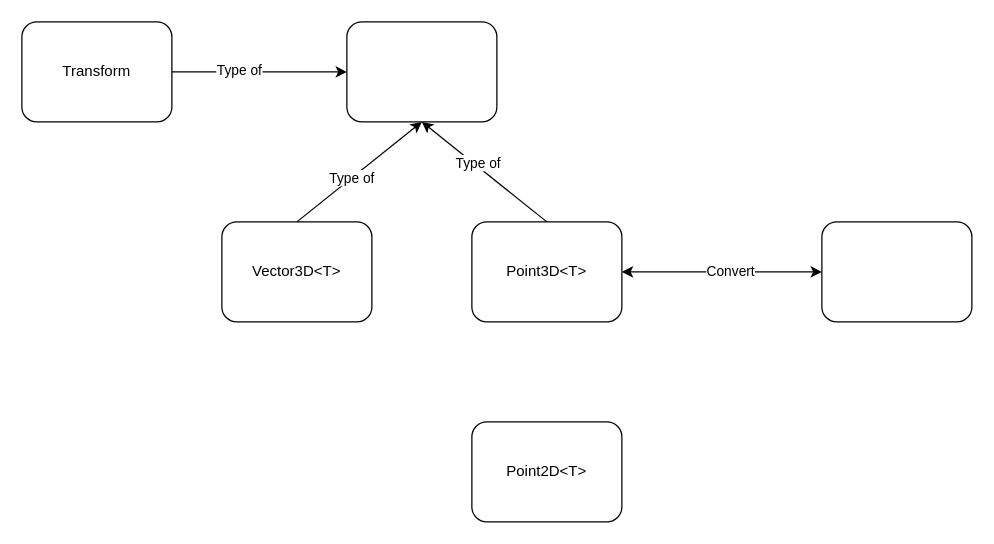
Image size: 994x544. Some labels were removed from this diagram. The centre of each missing label's shape, as x and y in pixels:
"Matrix<T,R,C>" belongs at point (421, 71).
"PointHomogenous" belongs at point (896, 271).
